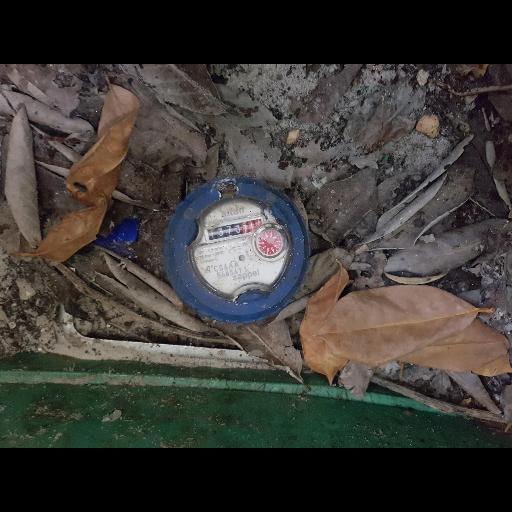1: (249, 220, 258, 233), (208, 228, 217, 240)
3: (234, 223, 243, 236), (216, 226, 225, 238)
7: (224, 225, 234, 238), (242, 221, 251, 234), (255, 218, 264, 229)
border_water_meter_number: (196, 213, 273, 245)
